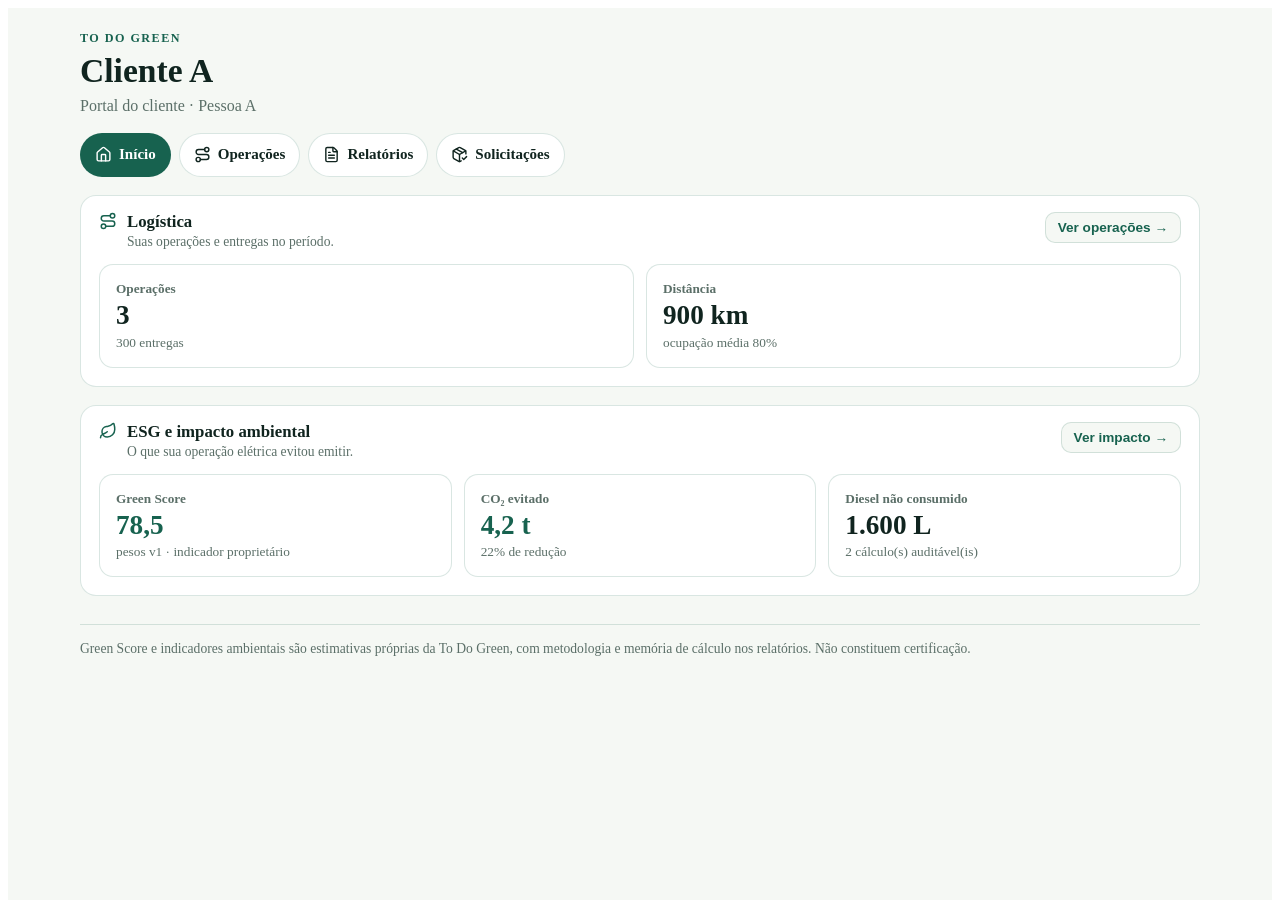
Test: Solicitações do cliente › a aba não diz mais 'em breve': mostra a caixa do cliente
Expected: the heading "Cliente A" is shown, [80,52,213,89]
Click the button "Solicitações". click: (500, 155)
box: [436,133,565,177]
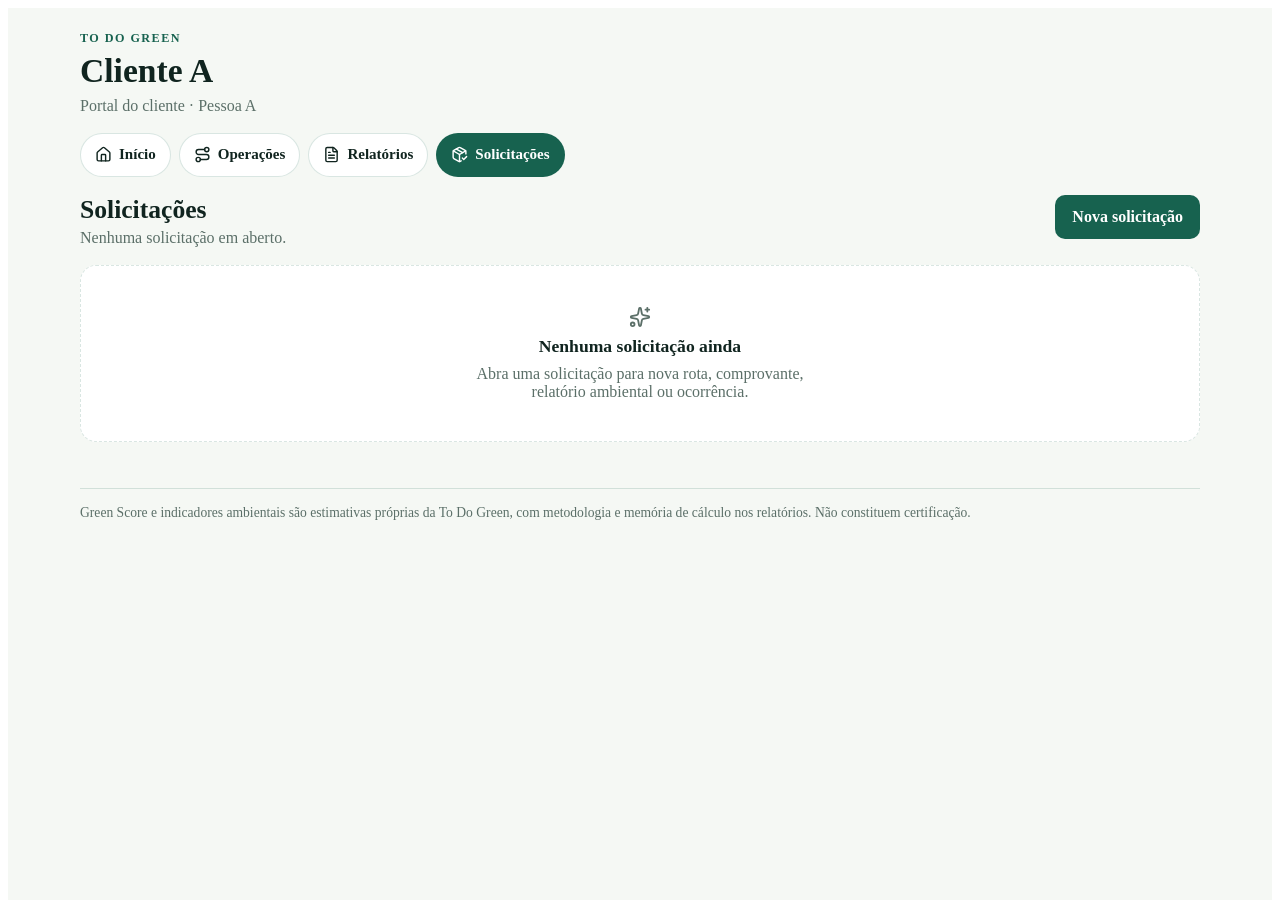
Expected: the text "Nenhuma solicitação ainda" is shown, [539,336,741,357]
